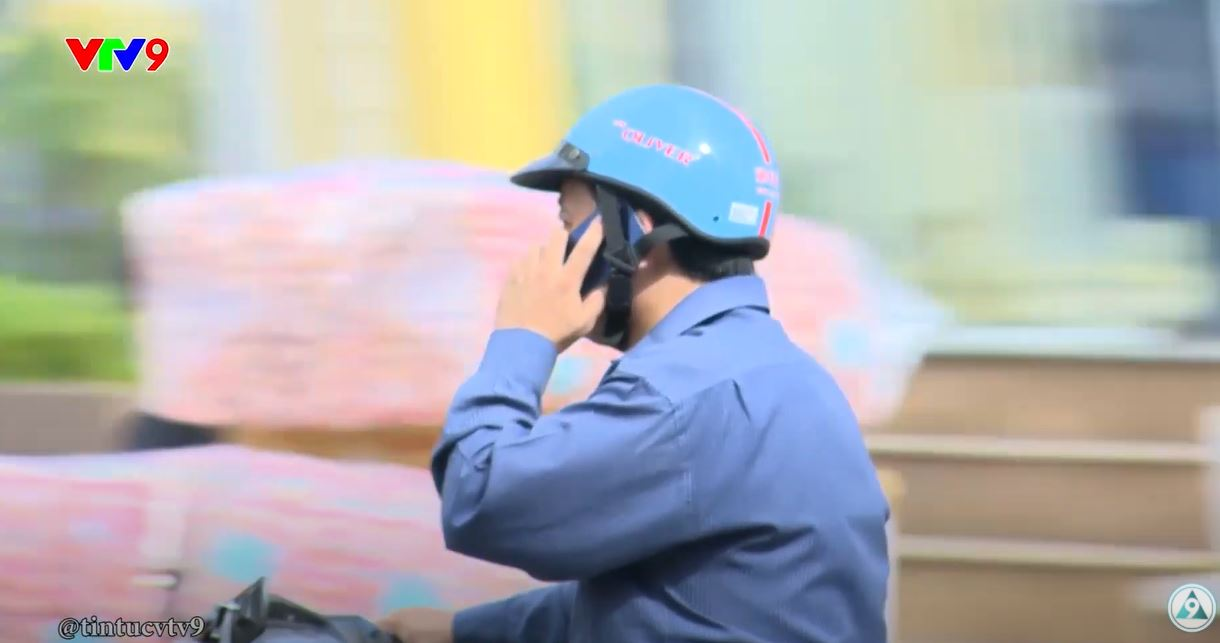su dung dien thoai: (497, 84, 779, 369)
